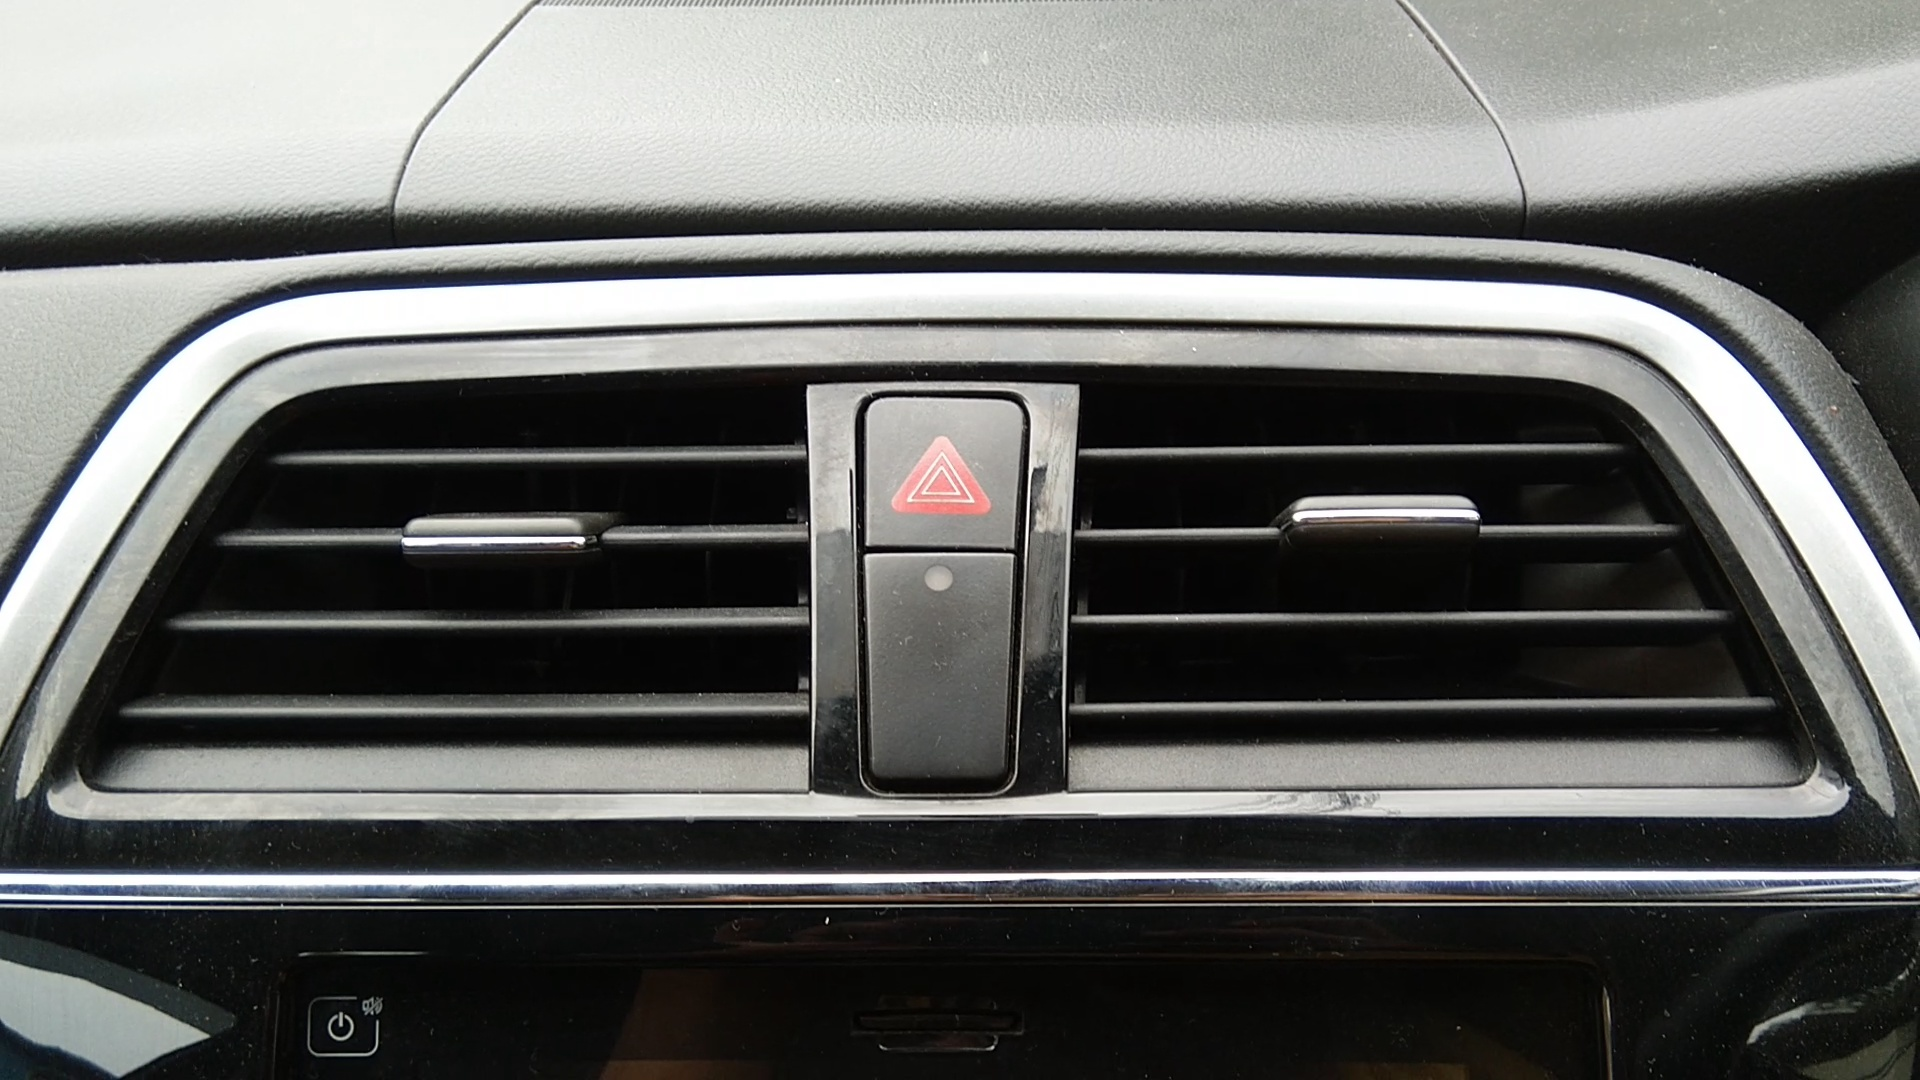parking_button: (881, 407, 1009, 537)
